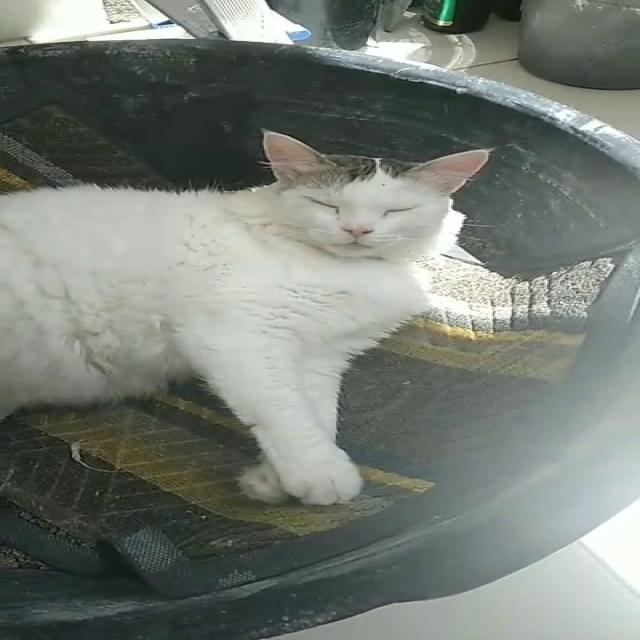Simba: (6, 105, 578, 546)
